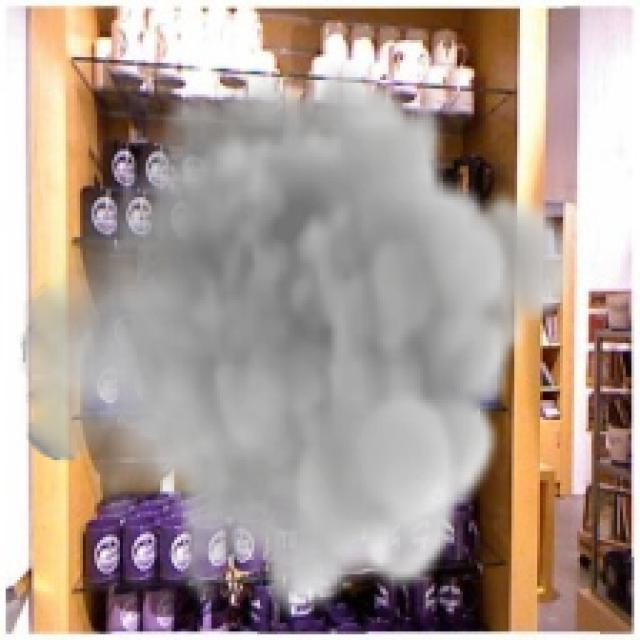Smoke: (17, 63, 580, 620)
